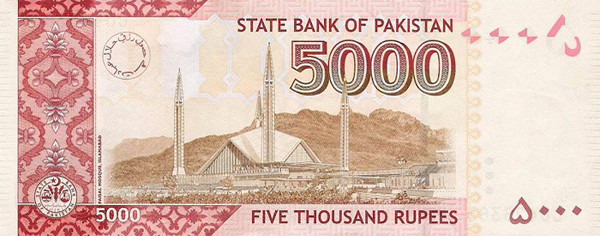5000 rupee: (3, 2, 592, 230)
